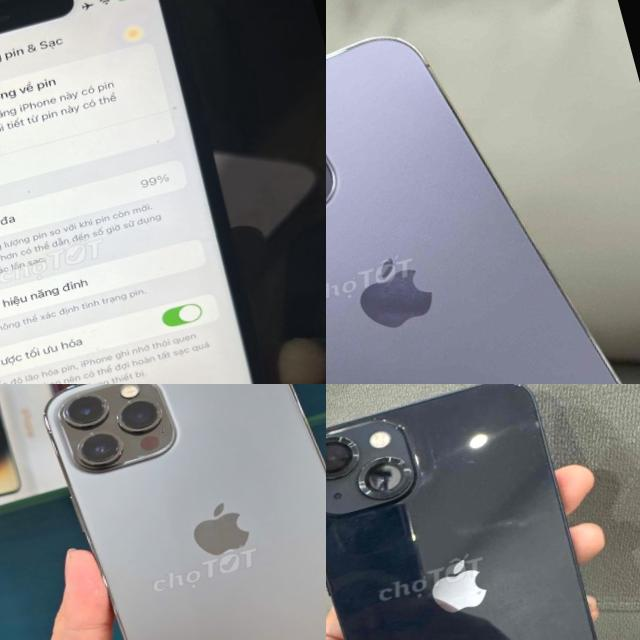gen_11: (0, 0, 308, 384)
gen_12_13: (326, 384, 640, 640), (31, 384, 326, 640)
gen_14: (326, 0, 640, 384)
